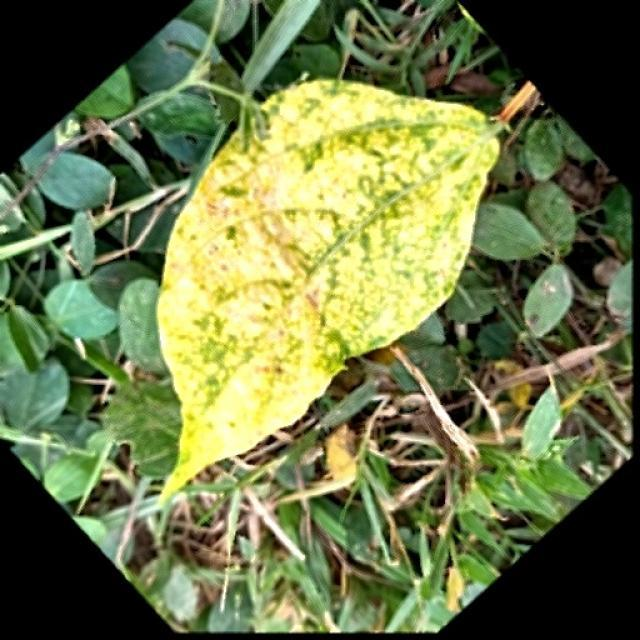leaves: (11, 0, 566, 514)
